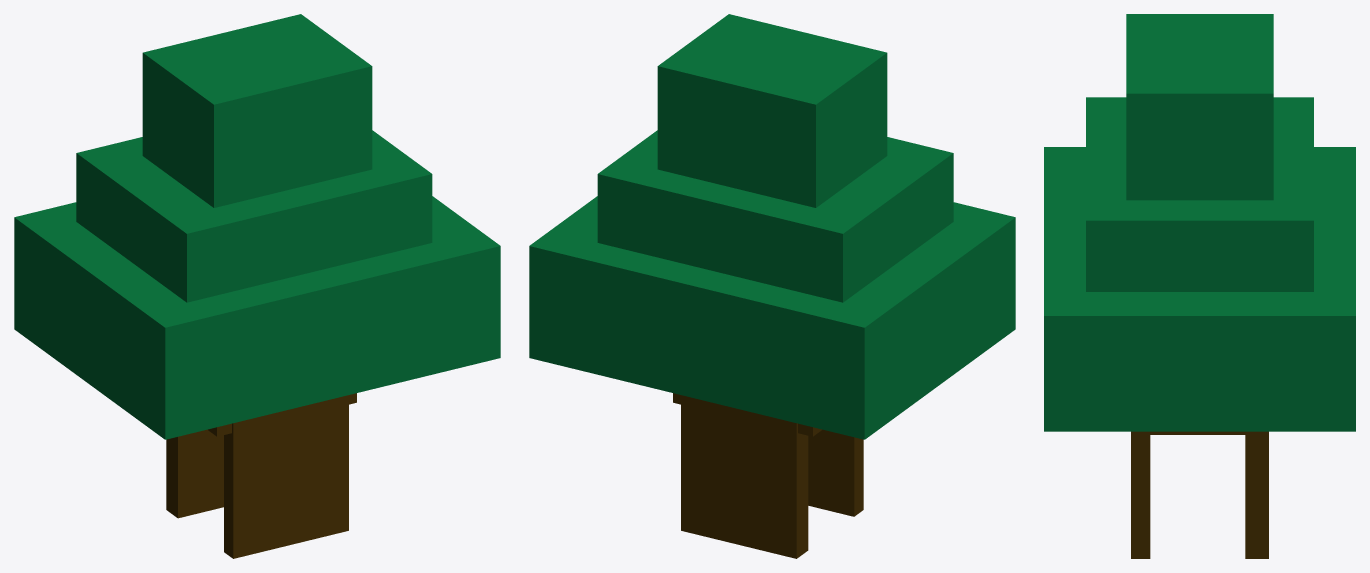
The model's file is tree.fbx.
3 renders of one model, left to right at view 1: azimuth 30°, elevation 25°; view 2: azimuth 150°, elevation 25°; view 3: azimuth 270°, elevation 25°, orthographic. The views are drawn at different scales.
Parts seen in each view (by area): view 1: pCube9, pCube17; view 2: pCube9, pCube17; view 3: pCube9, pCube17.
Boxes of the visible parts, x1,y1,x2,y2 form: pCube9: (14, 14, 500, 439); pCube17: (166, 393, 356, 558); pCube9: (529, 14, 1015, 439); pCube17: (673, 393, 863, 558); pCube9: (1044, 14, 1355, 431); pCube17: (1131, 431, 1268, 558).
Size of the model in its own units: 5.99 by 7.87 by 4.67.
